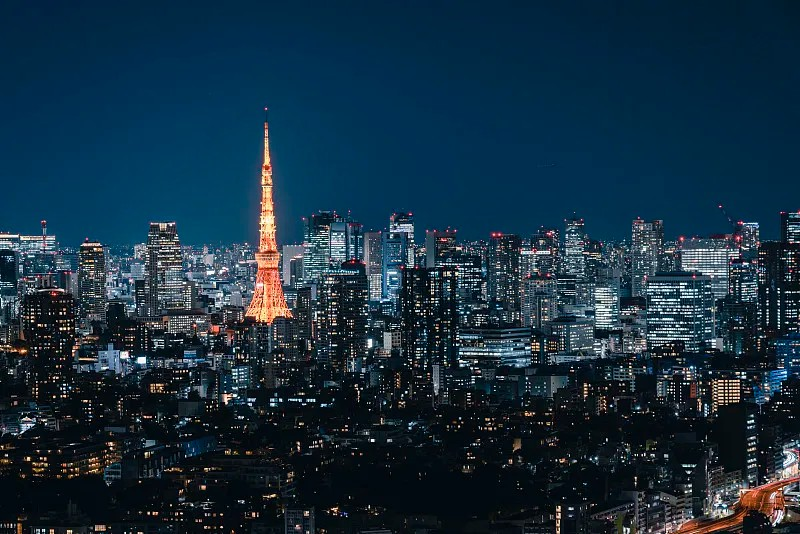Tokyo: (241, 105, 297, 326)
